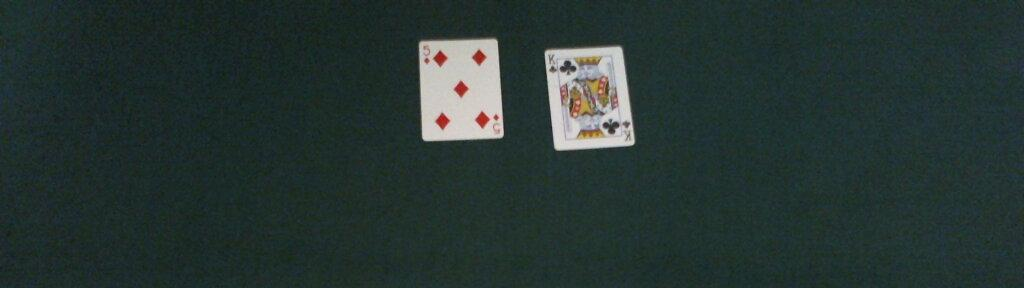five: (416, 36, 505, 141)
king: (543, 45, 636, 150)
